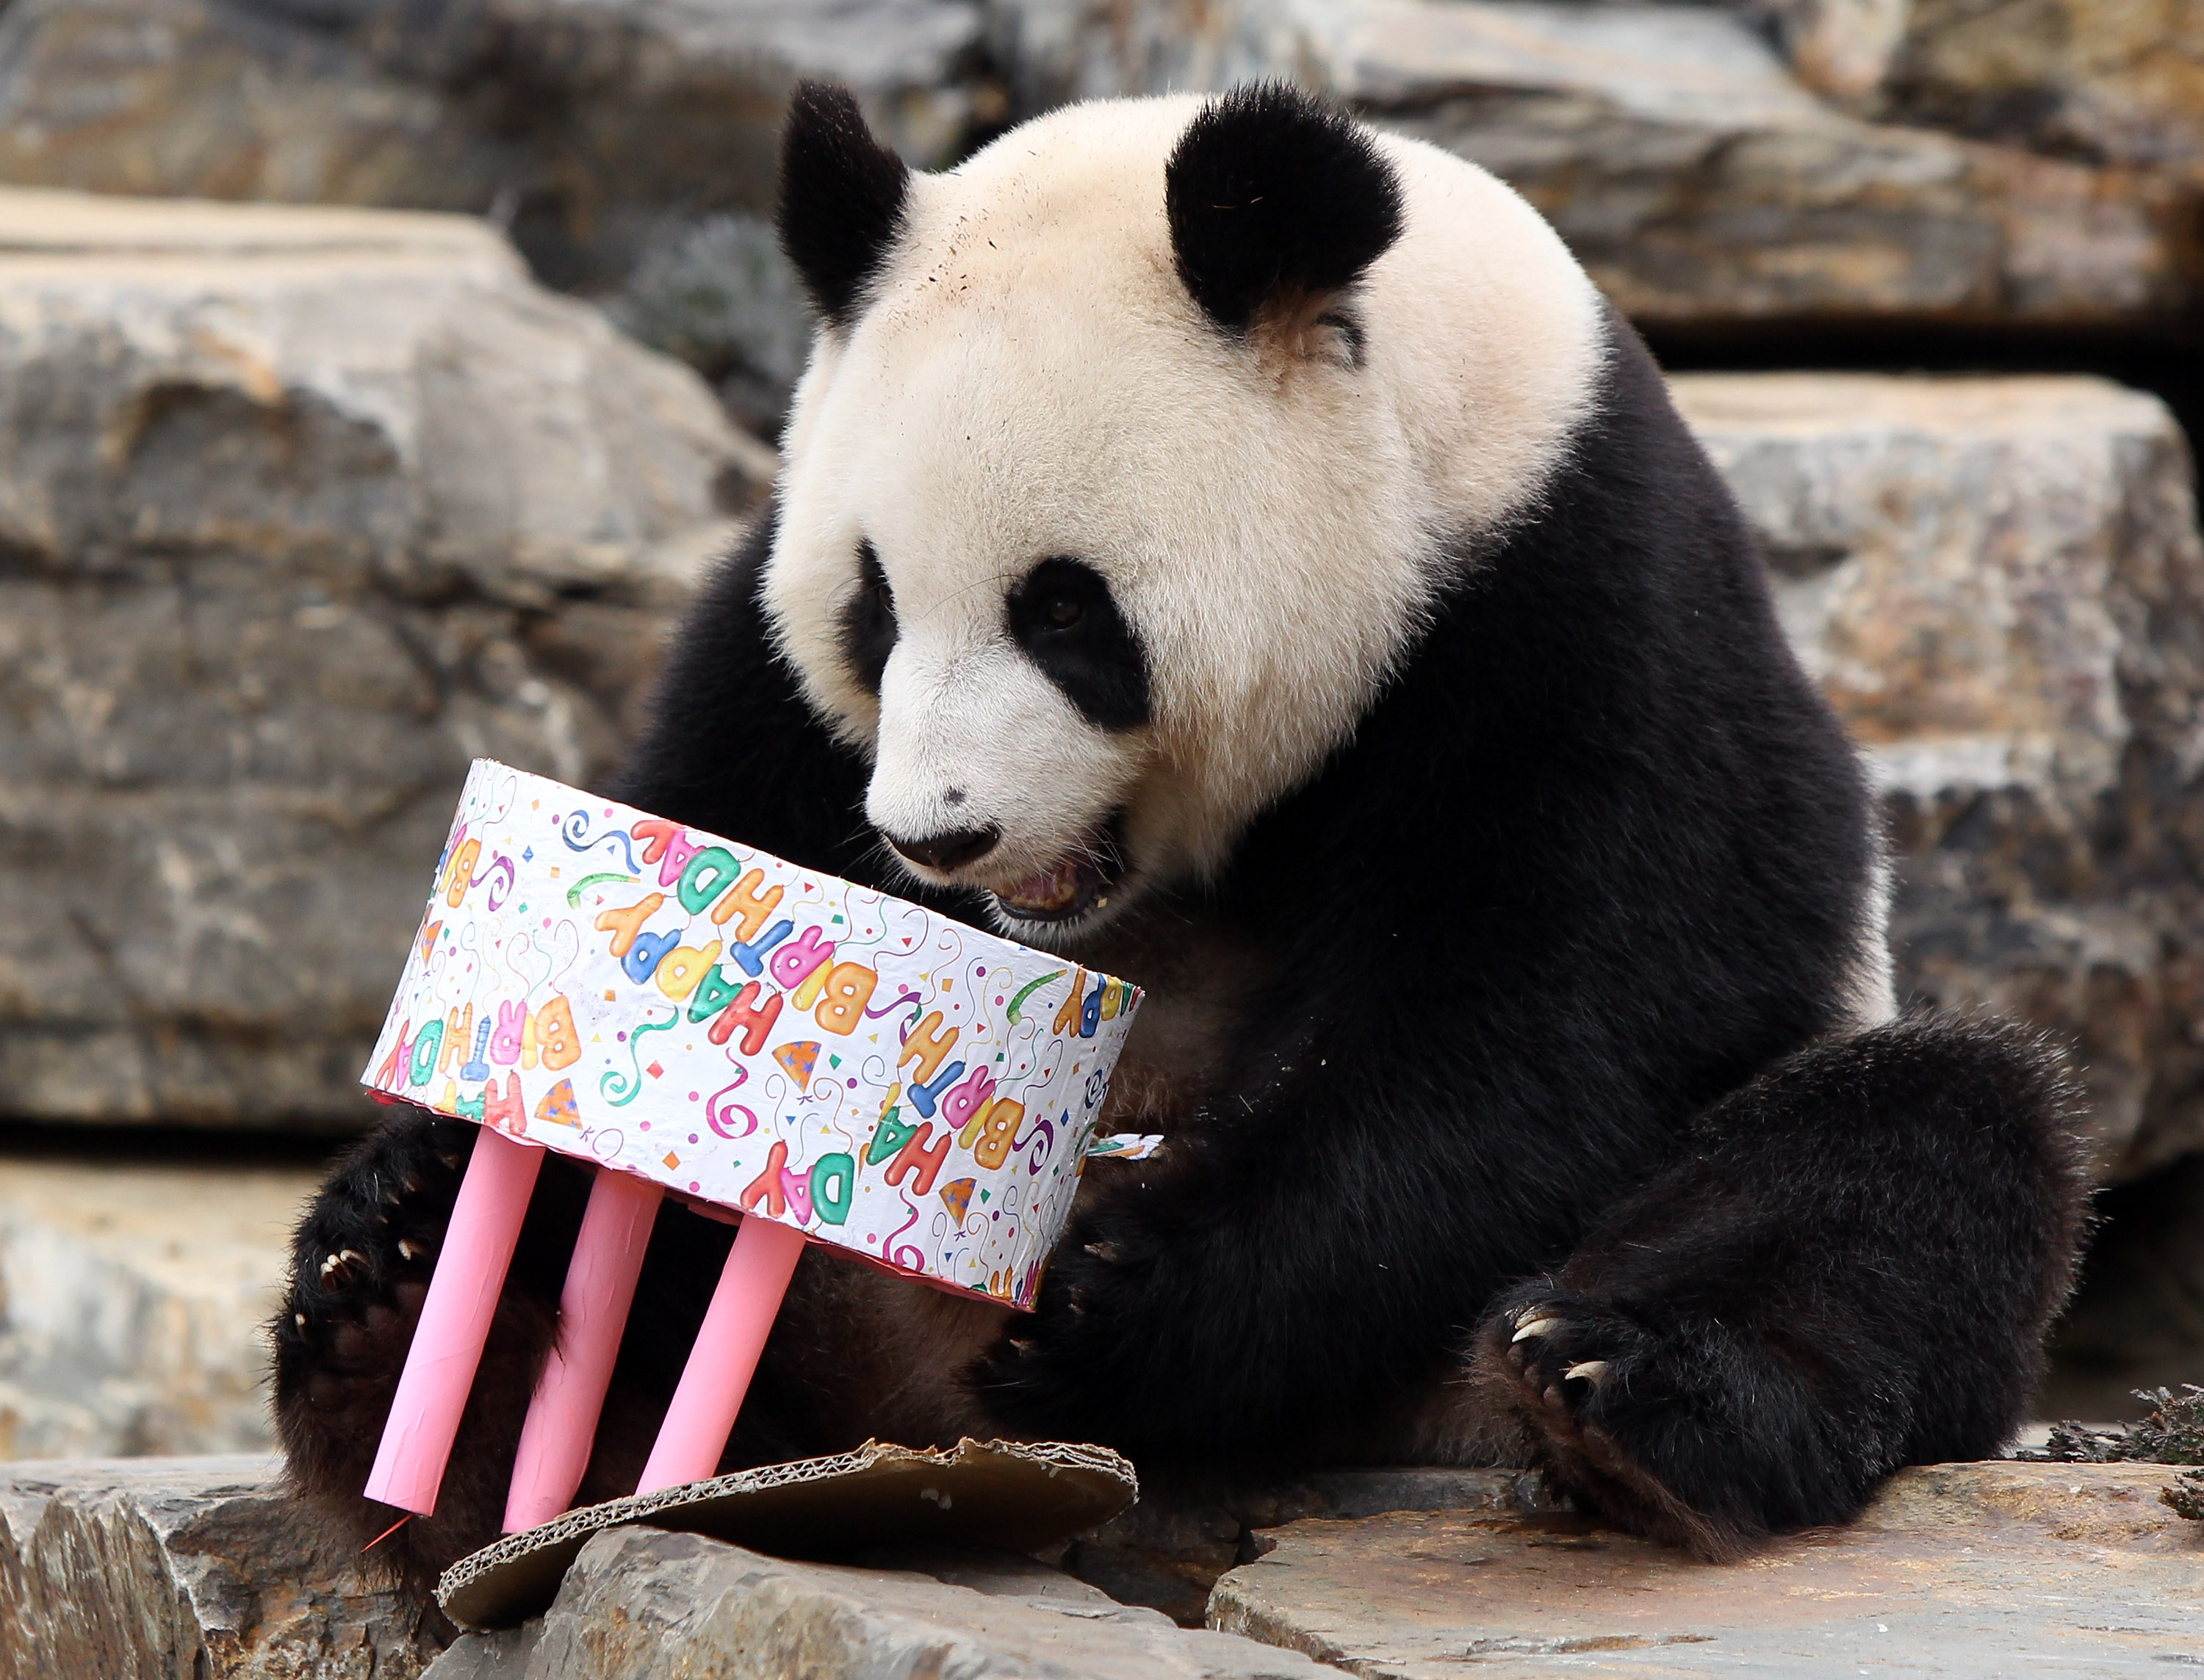panda: (364, 39, 2107, 1611)
